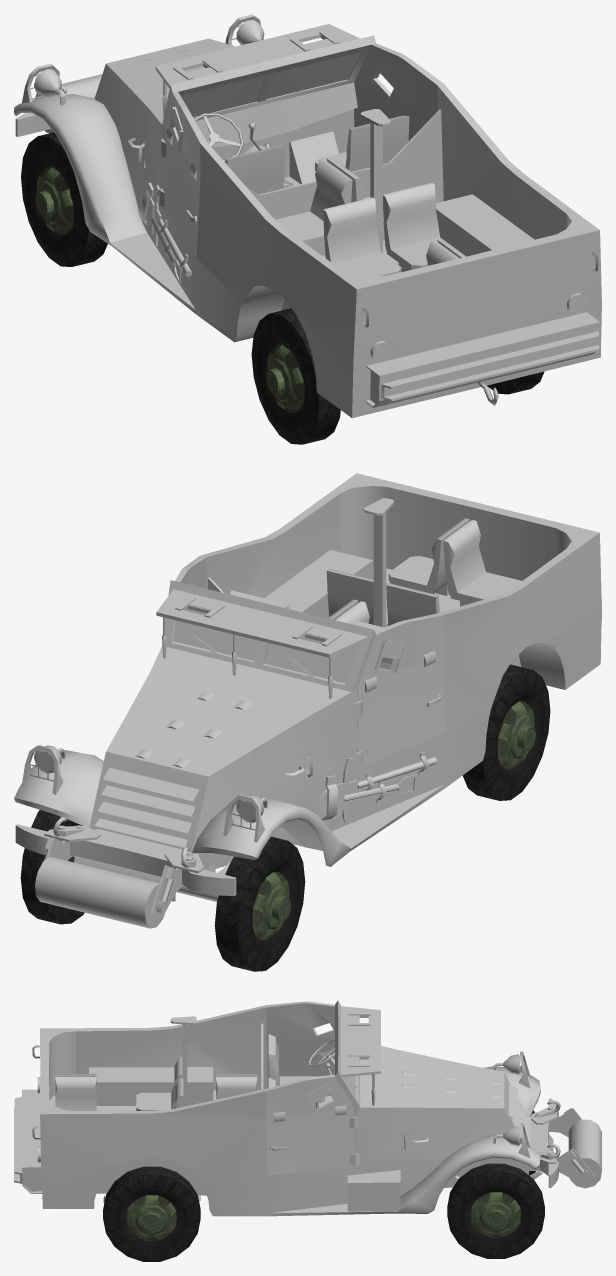
File: WW2_M3A1_Scout_Car_NoRoof.FBX
3 renders of one model, top to bottom at view 1: azimuth 30°, elevation 25°; view 2: azimuth 150°, elevation 25°; view 3: azimuth 270°, elevation 25°, orthographic. The views are drawn at different scales.
Parts seen in each view (by area): view 1: m3a1_noroof_body, m3a1_noroof_wheel02, m3a1_noroof_wheel03, m3a1_noroof_doorright, m3a1_noroof_doorleft, m3a1_noroof_wheel00; view 2: m3a1_noroof_body, m3a1_noroof_doorleft, m3a1_noroof_wheel03, m3a1_noroof_wheel02, m3a1_noroof_wheel01, m3a1_noroof_doorright; view 3: m3a1_noroof_body, m3a1_noroof_doorright, m3a1_noroof_wheel00, m3a1_noroof_wheel01, m3a1_noroof_doorleft.
Part boxes in pixels (x1,y1,x2,y2): m3a1_noroof_body: (14,14,601,417); m3a1_noroof_wheel02: (251,308,340,444); m3a1_noroof_wheel03: (21,132,107,266); m3a1_noroof_doorright: (354,43,443,141); m3a1_noroof_doorleft: (159,91,206,257); m3a1_noroof_wheel00: (487,371,544,394); m3a1_noroof_body: (14,473,601,928); m3a1_noroof_doorleft: (357,613,445,769); m3a1_noroof_wheel03: (214,836,305,971); m3a1_noroof_wheel02: (462,664,550,800); m3a1_noroof_wheel01: (20,810,84,924); m3a1_noroof_doorright: (175,555,206,588); m3a1_noroof_body: (14,1000,601,1216); m3a1_noroof_doorright: (266,1074,355,1175); m3a1_noroof_wheel00: (103,1166,200,1261); m3a1_noroof_wheel01: (447,1163,544,1258); m3a1_noroof_doorleft: (266,1001,335,1095).
Size of the model in its own units: 2.56 by 2.67 by 7.05.
